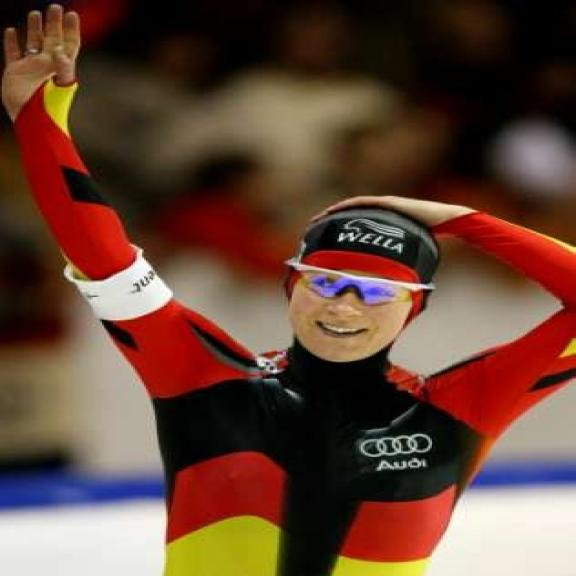face: (290, 254, 420, 366)
